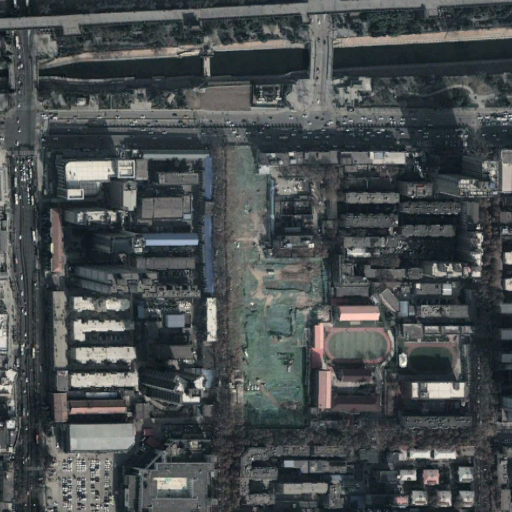cw: (227, 146, 329, 425)
